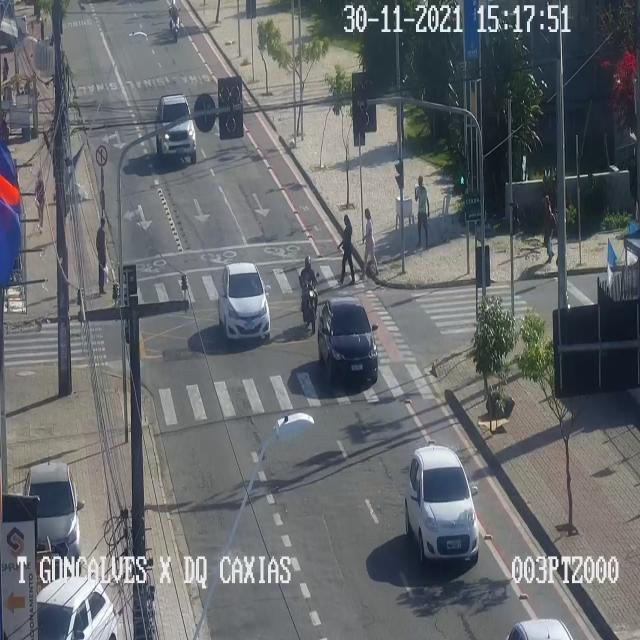Car: (405, 445, 478, 560), (24, 463, 80, 573), (36, 576, 116, 639), (317, 297, 377, 380), (218, 262, 270, 338), (155, 94, 195, 163), (506, 609, 576, 640)
Motorcycle: (299, 256, 318, 332), (168, 0, 180, 39)
